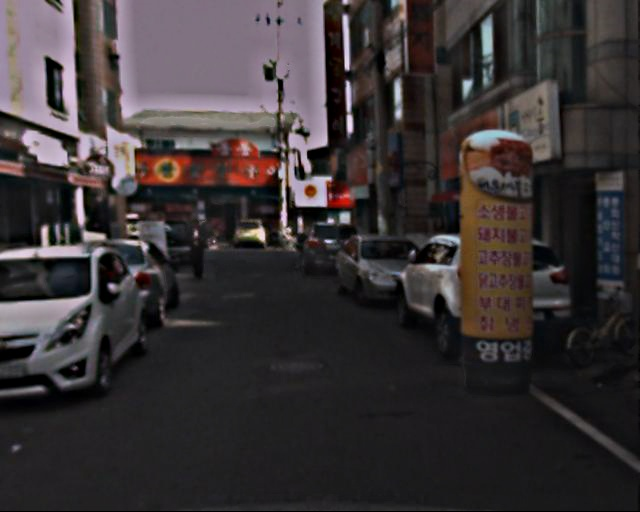person: (183, 218, 211, 282)
